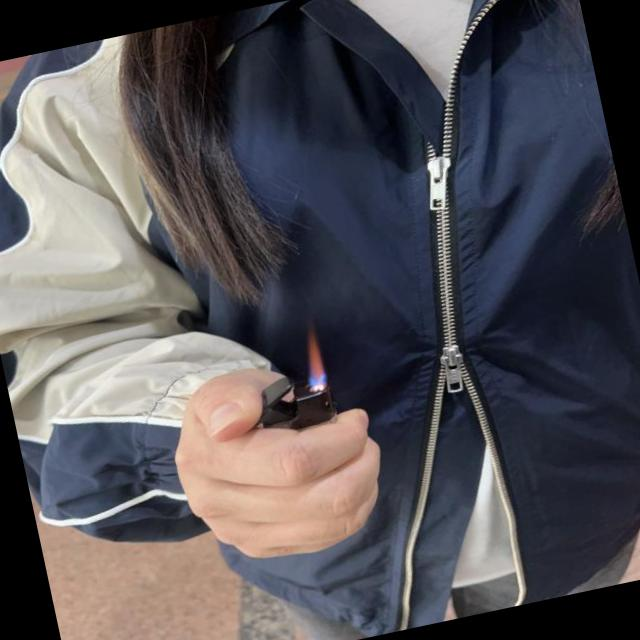Fire: (296, 323, 330, 392)
